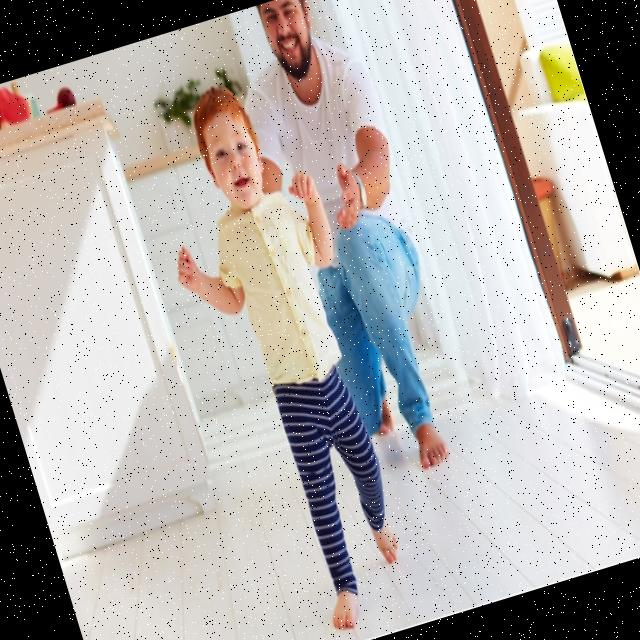Person: (126, 65, 444, 640), (216, 0, 481, 487)
